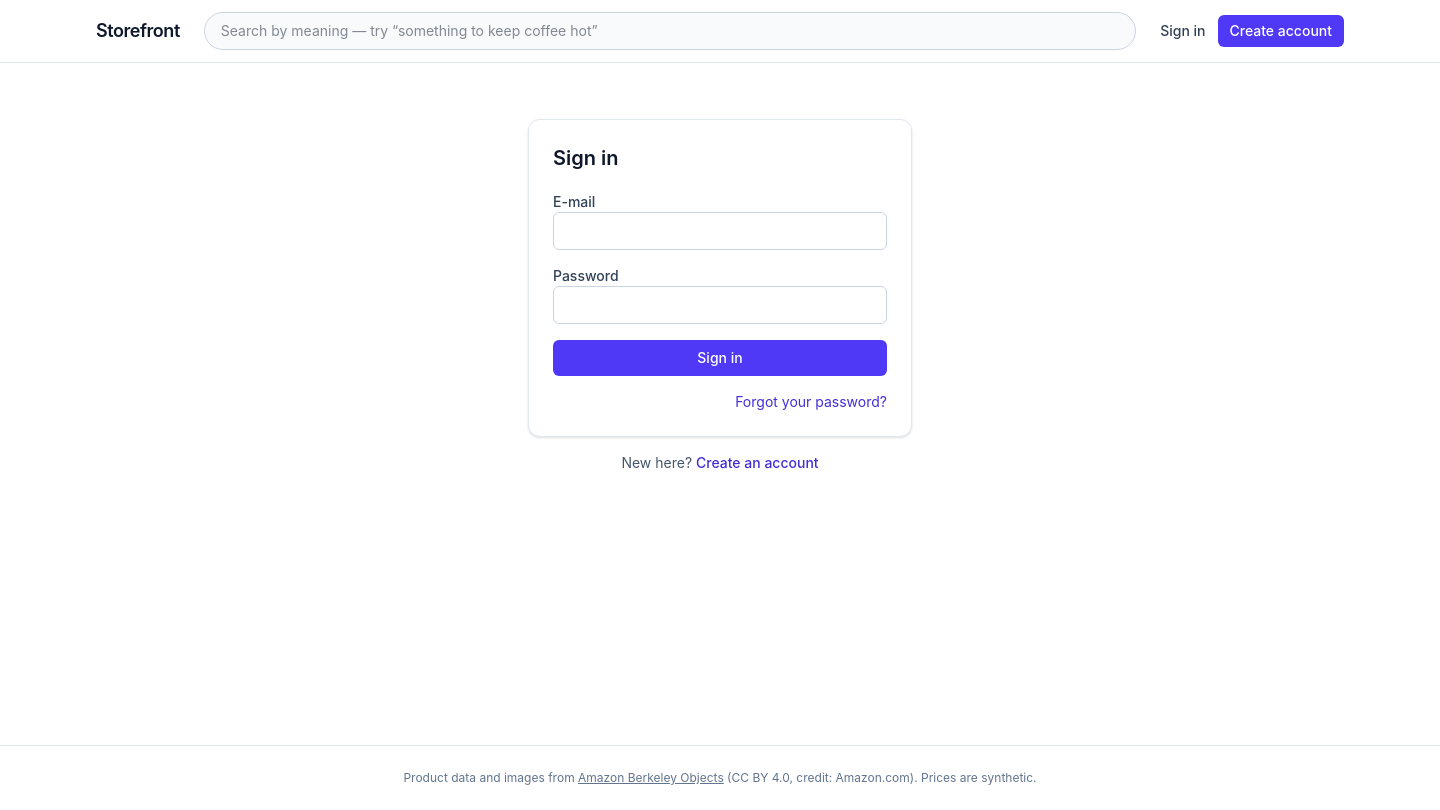
login › offers a new confirmation link to unverified accounts
Check: the header is shown, box [0,0,1439,63]
Step 1. Type "bob@gmail.com" into the field labelled "E-mail" → (720, 231), box [553,212,887,250]
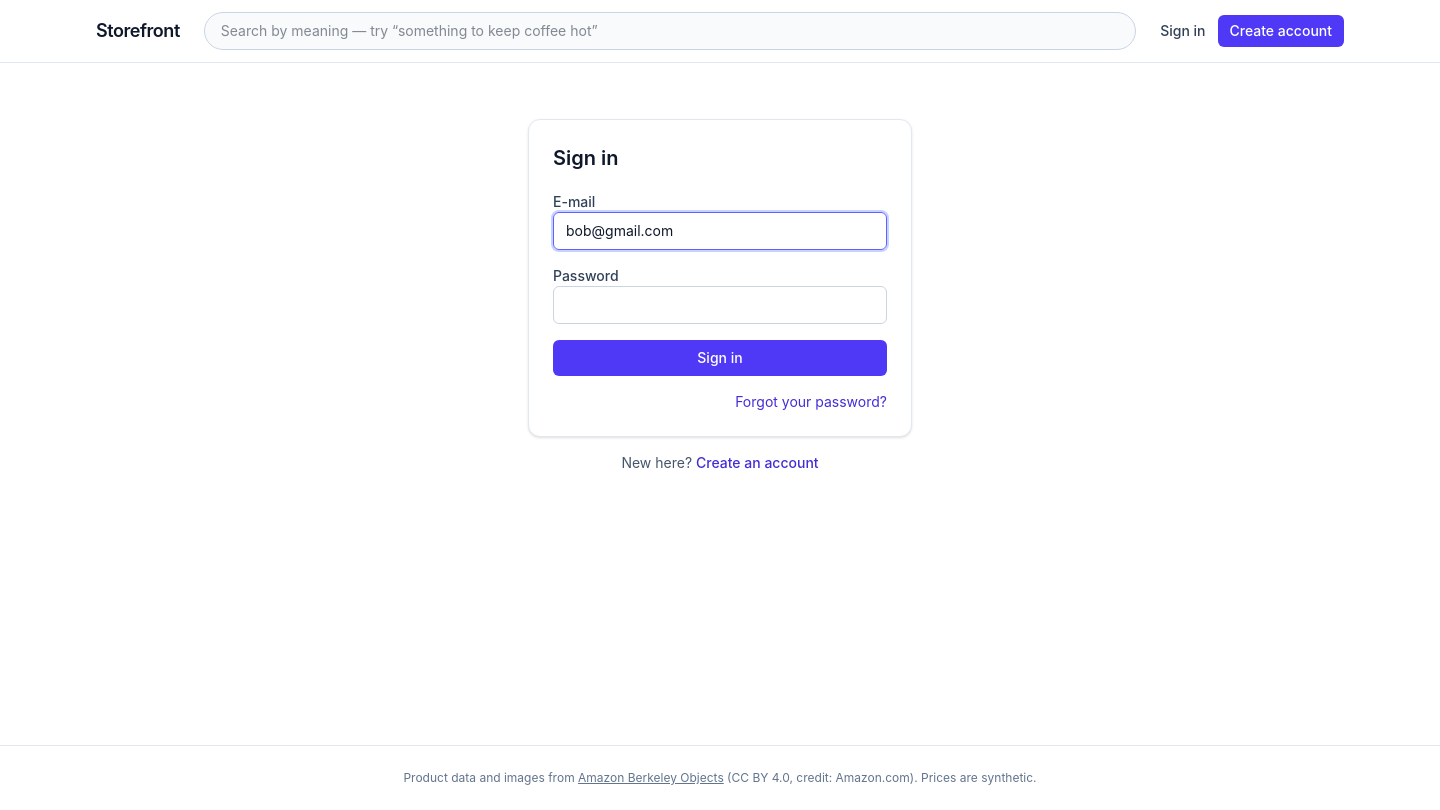
Step 2. Type "correct-horse-battery" into the password field labelled "Password" → (720, 305), box [553,286,887,324]
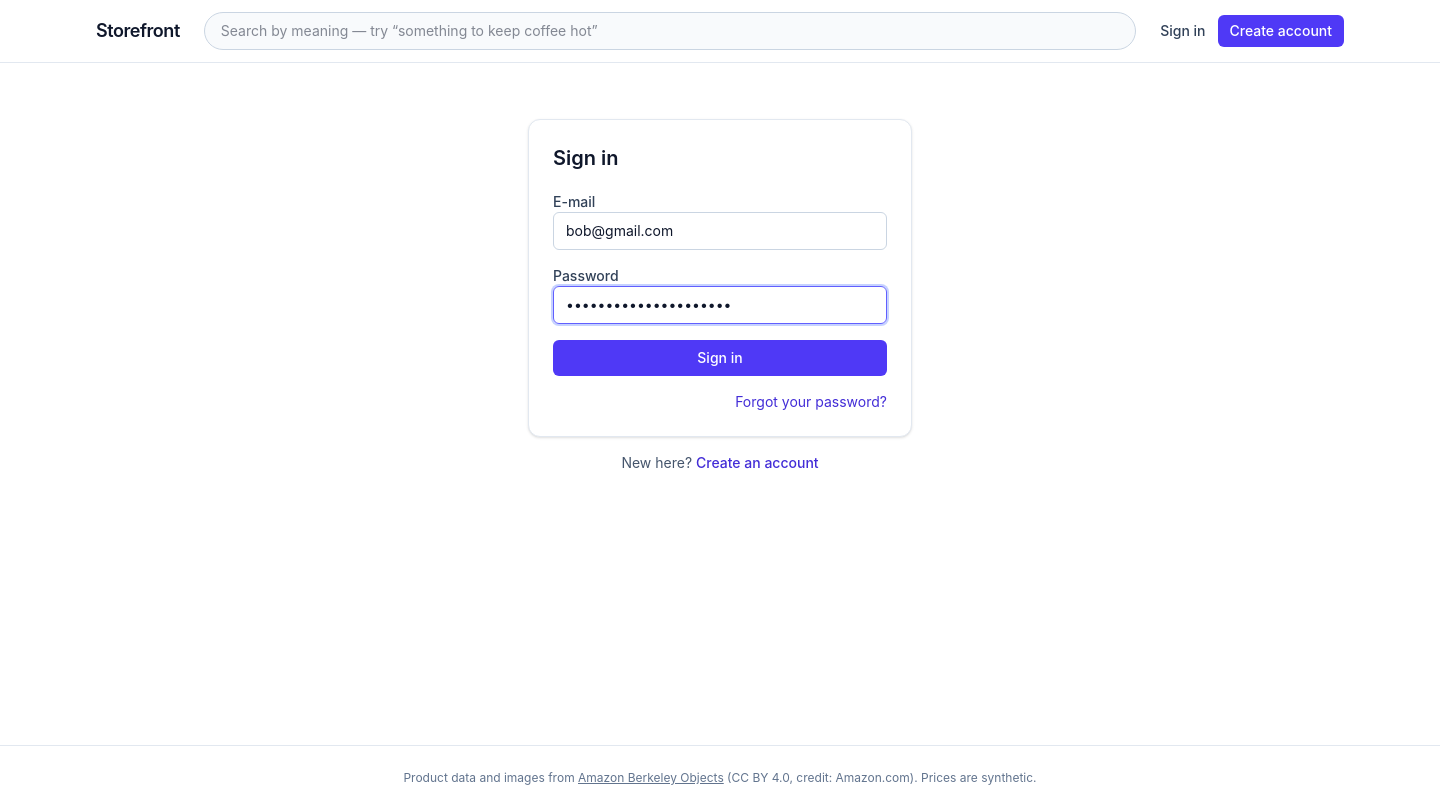
Step 3. Click the button "Sign in" → (720, 358), box [553,340,887,376]
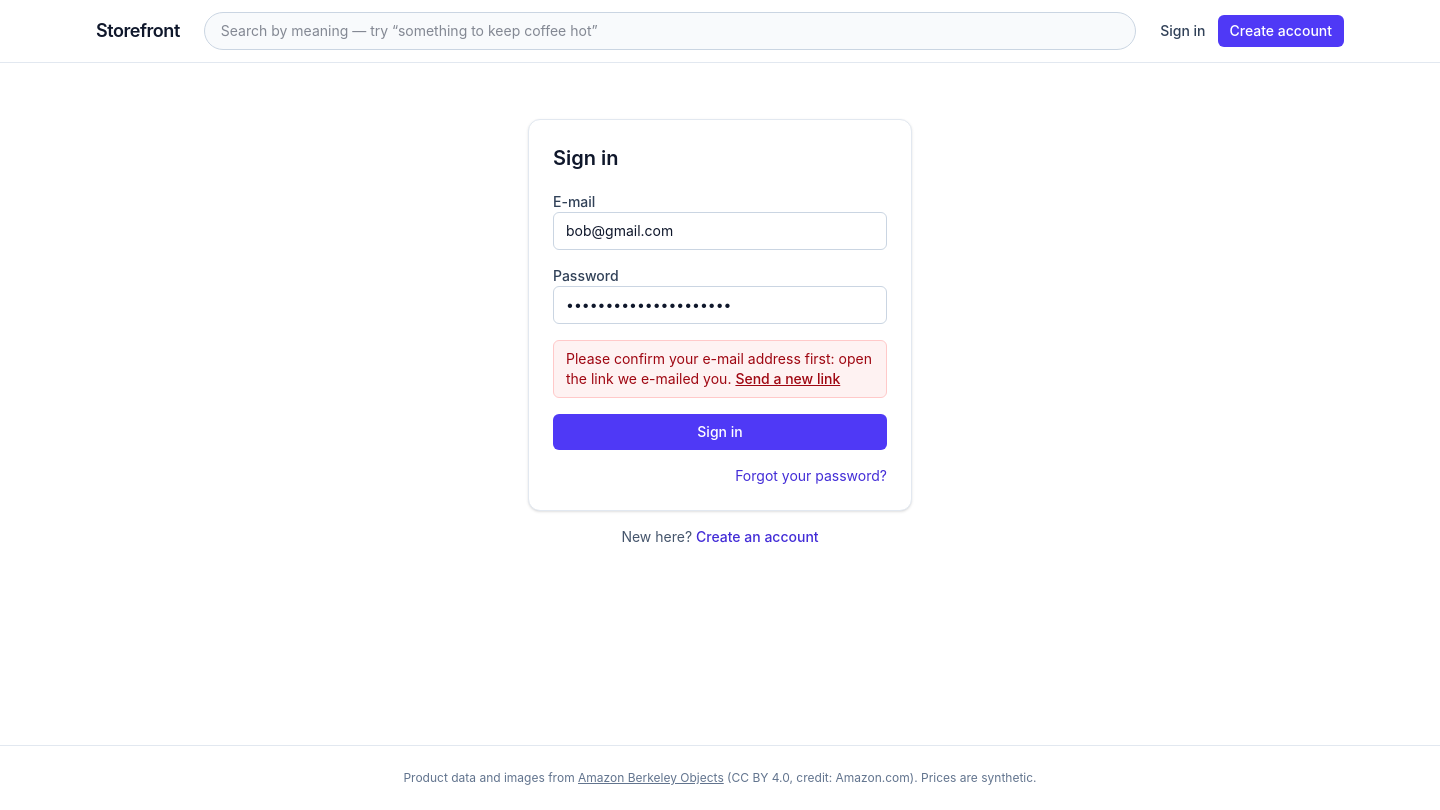
Step 4. Click the button "Send a new link" → (788, 379), box [735,369,840,389]
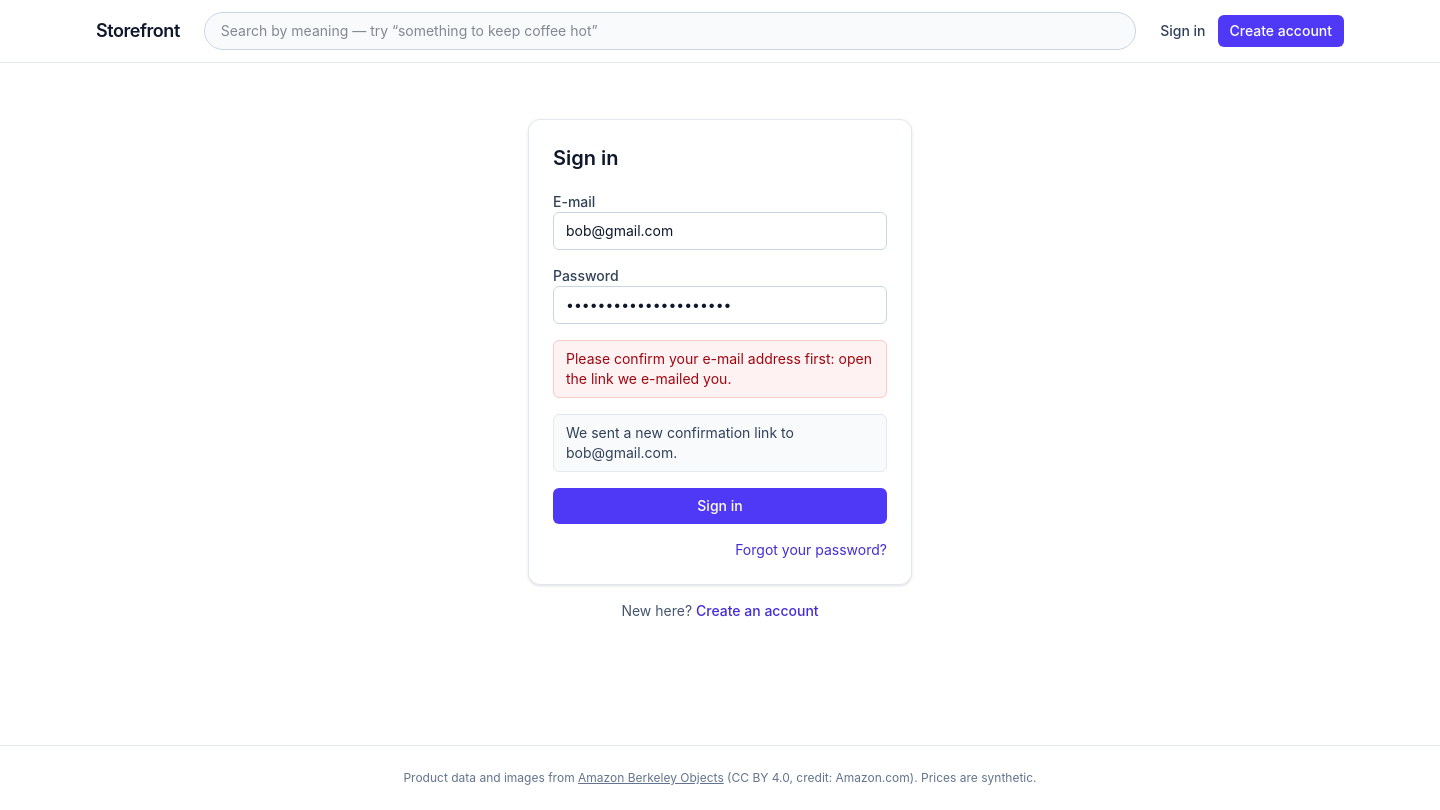
Check: the text "We sent a new confirmation link to bob@gmail.com." is shown, box [553,414,887,472]
